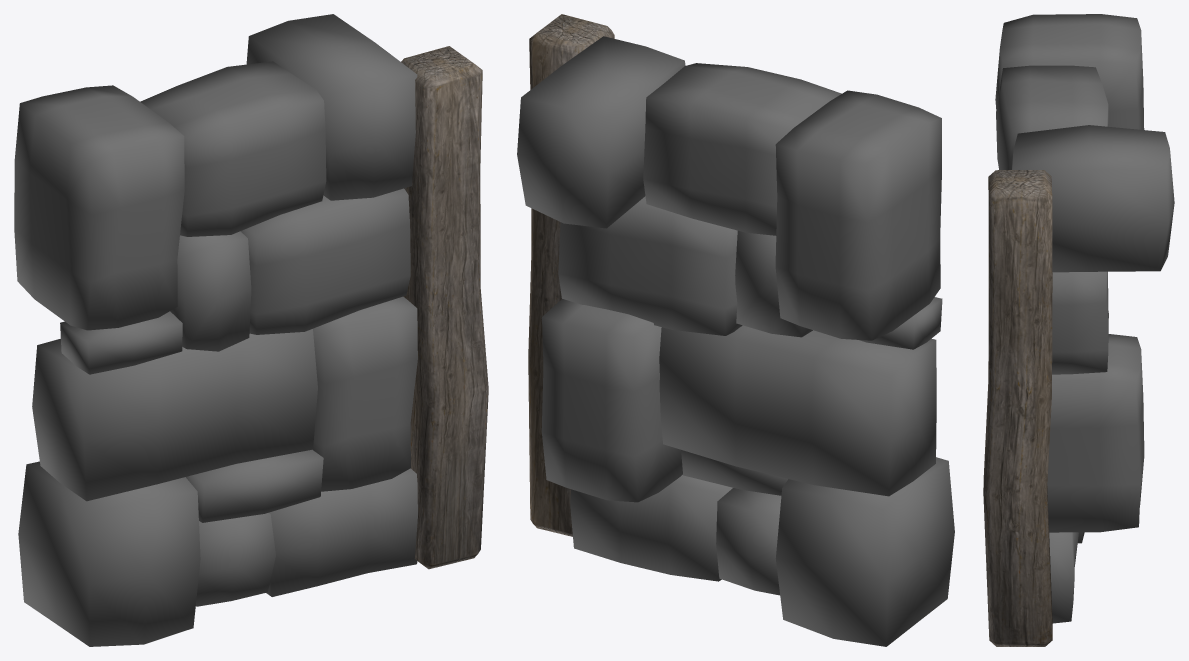
The model's file is stone wall single.fbx.
The picture shows the model from 3 angles, left to right: view 1: azimuth 30°, elevation 25°; view 2: azimuth 150°, elevation 25°; view 3: azimuth 270°, elevation 25°; orthographic projection. The views are drawn at different scales.
Visible parts, largest first — view 1: Cube.038; view 2: Cube.038; view 3: Cube.038.
Part boxes in pixels (bbox=[...]): Cube.038: bbox=[14, 14, 488, 646]; Cube.038: bbox=[517, 14, 954, 646]; Cube.038: bbox=[983, 14, 1174, 646].
Size of the model in its own units: 215 by 256 by 95.3.
